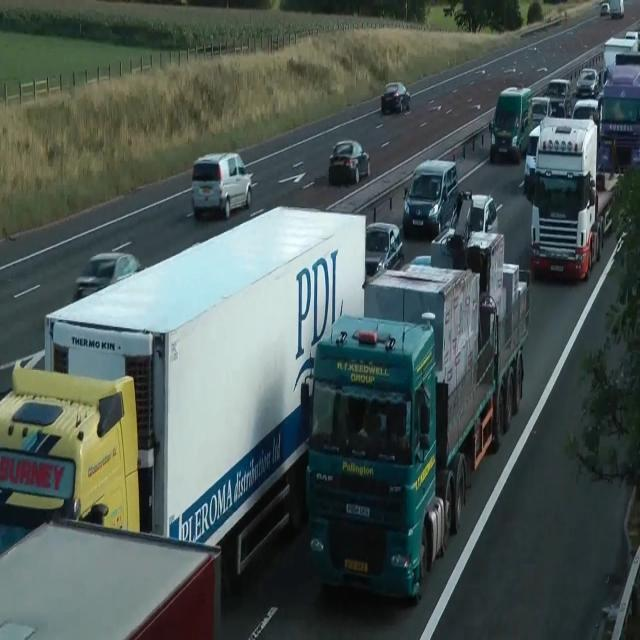bus: (74, 251, 140, 301), (364, 222, 404, 278), (328, 139, 370, 185), (380, 81, 410, 115), (576, 68, 599, 98), (572, 98, 600, 122), (530, 96, 552, 125), (410, 255, 432, 268), (600, 2, 610, 16), (625, 30, 639, 40)
jeep: (0, 358, 140, 534), (402, 158, 458, 238), (191, 150, 253, 220), (488, 84, 532, 162)
minibus: (42, 203, 366, 593), (305, 230, 531, 604), (0, 516, 222, 639), (529, 115, 605, 281), (596, 63, 640, 174), (603, 36, 639, 70), (600, 0, 624, 19)
